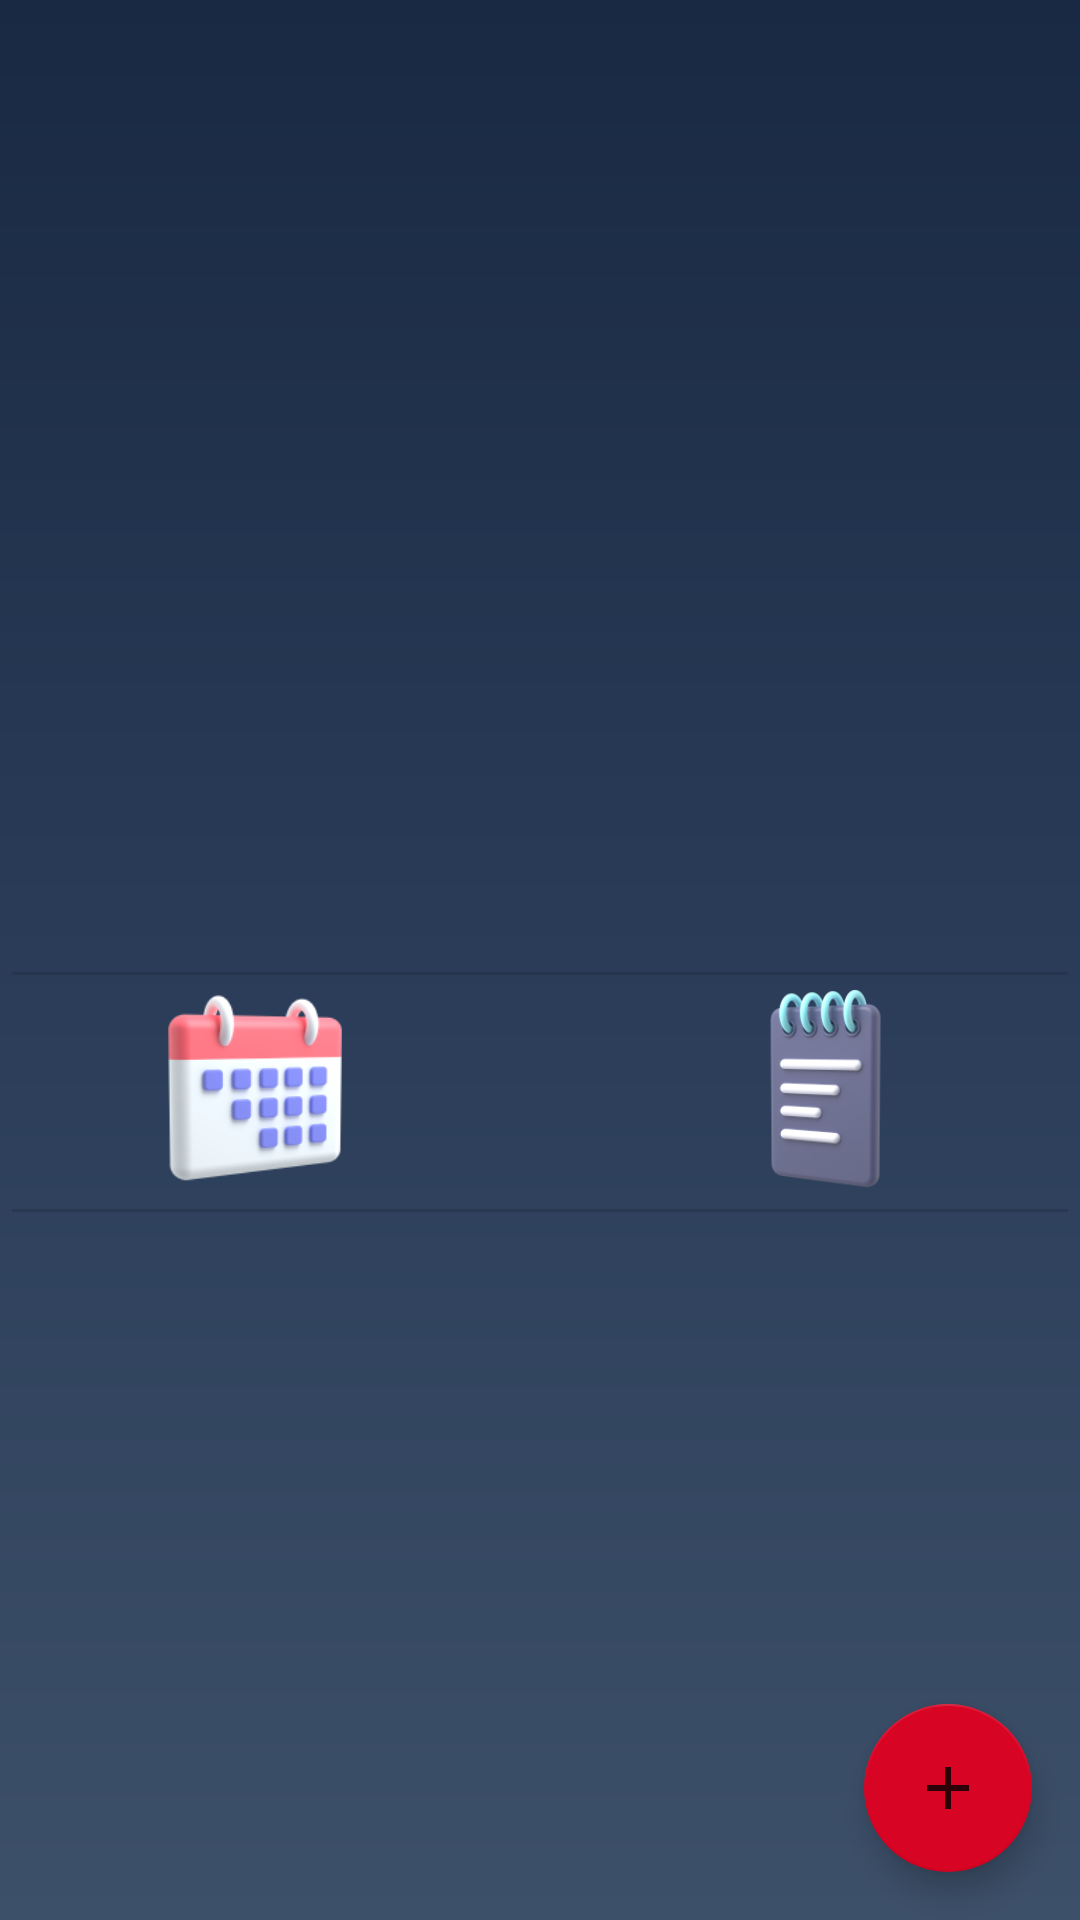

Named icons in this screenshot (1080px x 1920px) and their centers, (x,y):
add: (948,1788)
calendar: (255,1088)
notebook: (825,1088)
